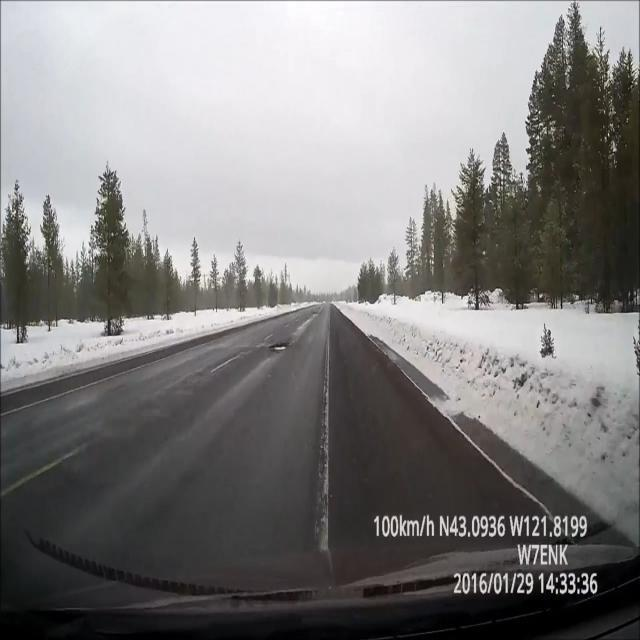pothole: (264, 334, 297, 359)
